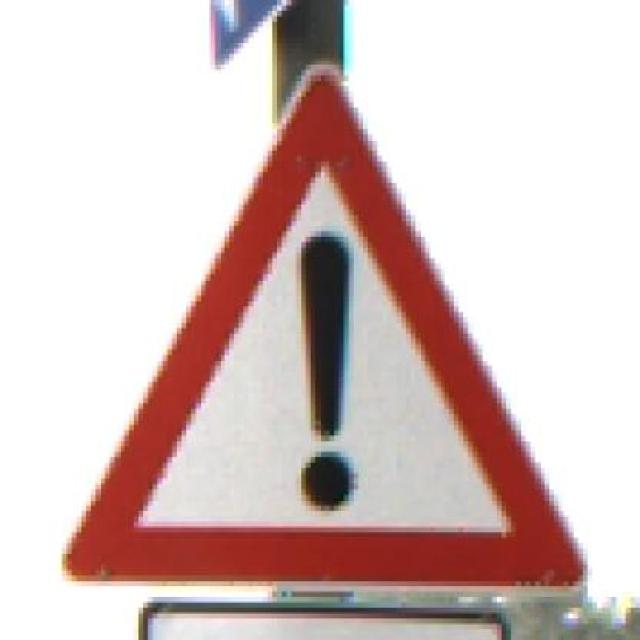Attention Please-: (28, 60, 607, 602)
